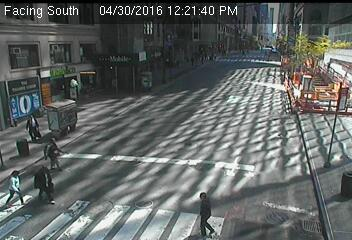neg: (254, 159, 303, 223), (291, 69, 330, 121), (305, 173, 334, 211), (124, 63, 153, 100), (187, 73, 211, 105), (176, 110, 200, 142), (256, 102, 278, 131), (156, 66, 173, 89), (297, 31, 313, 52), (279, 49, 290, 63)
pos: (183, 183, 225, 239), (27, 161, 61, 207), (1, 167, 31, 208), (38, 134, 64, 169), (20, 109, 46, 143), (189, 53, 200, 67), (210, 54, 219, 66), (262, 50, 270, 61), (198, 53, 206, 63), (241, 47, 248, 57)
